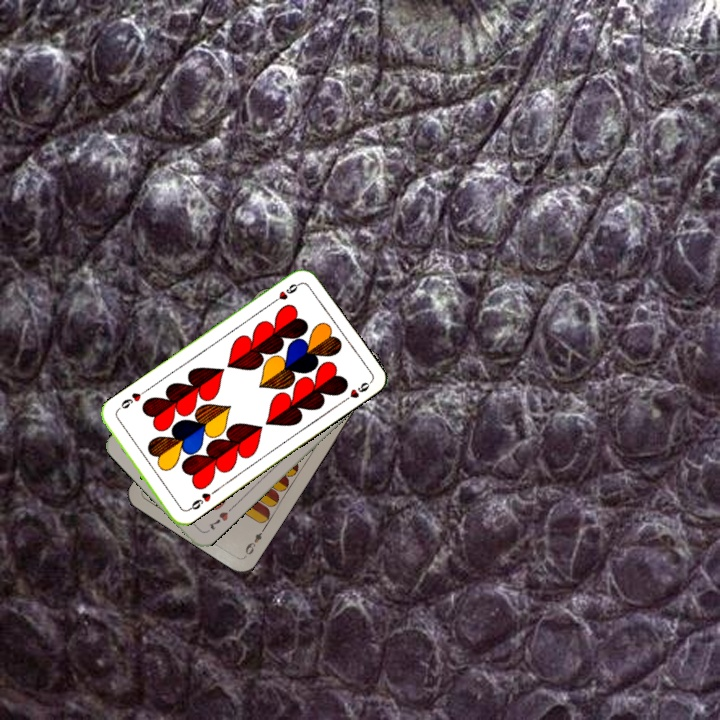E9: (240, 523, 268, 559)
H7: (204, 507, 231, 532)
H9: (267, 279, 303, 307), (182, 487, 218, 514)
